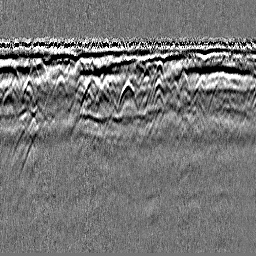cavity: (117, 79, 139, 112)
